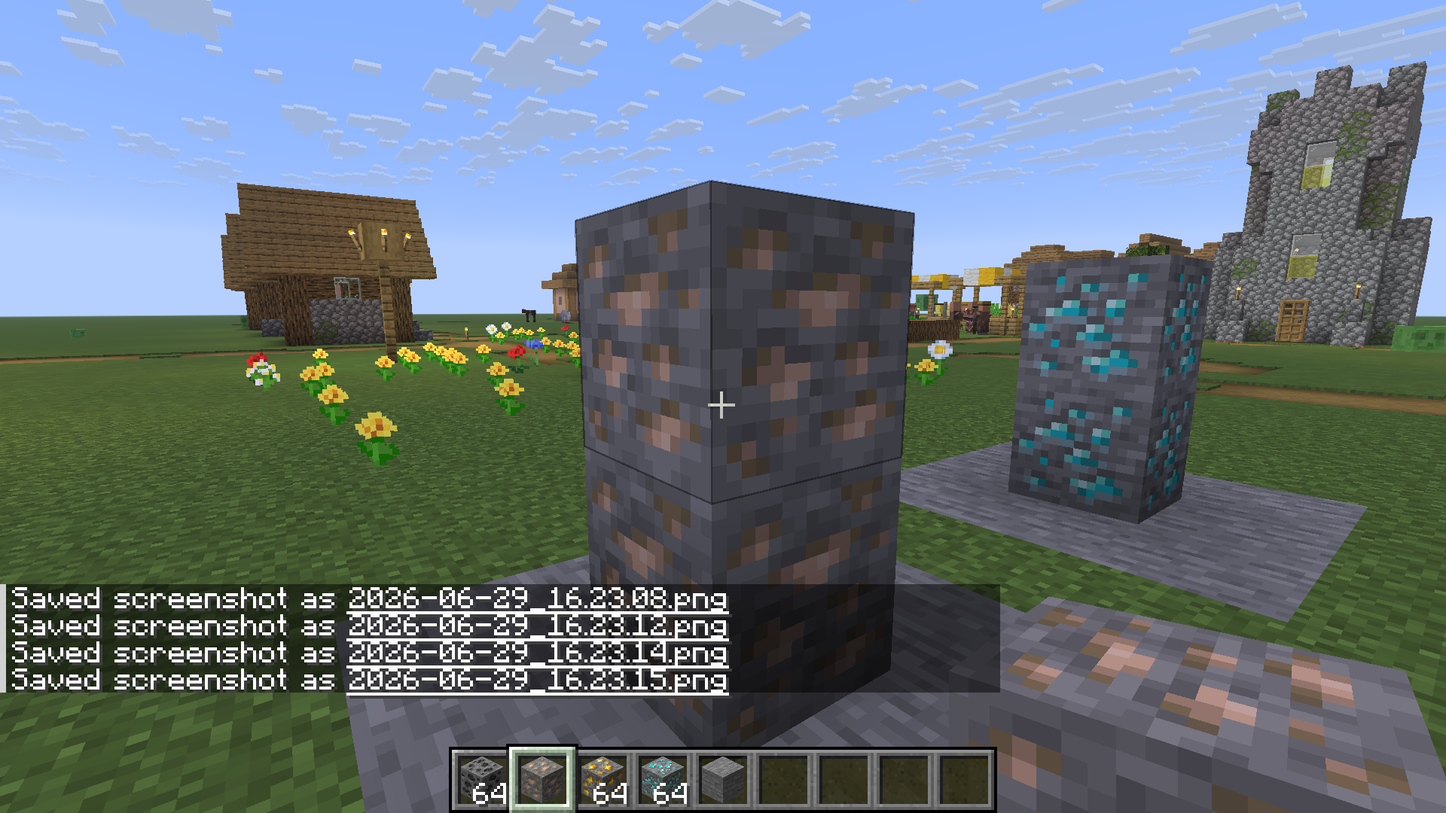diamond ore: (1011, 254, 1213, 524)
iron ore: (576, 182, 907, 502)
